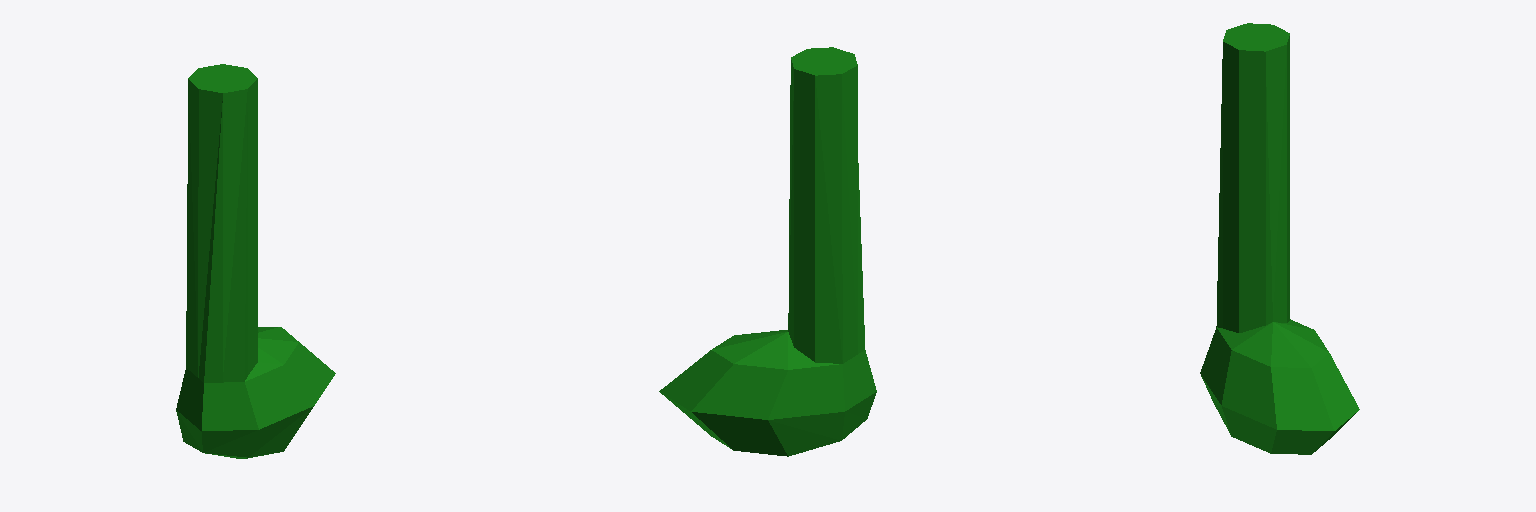
File: note.obj
3 views of the same model, side by side, from view 1: azimuth 30°, elevation 25°; view 2: azimuth 150°, elevation 25°; view 3: azimuth 270°, elevation 25° (orthographic).
Parts seen in each view (by area): view 1: Mesh41_Componente_4_3_Group26_Group24_Model; view 2: Mesh41_Componente_4_3_Group26_Group24_Model; view 3: Mesh41_Componente_4_3_Group26_Group24_Model.
Part boxes in pixels (x1,y1,x2,y2): Mesh41_Componente_4_3_Group26_Group24_Model: (176, 64, 335, 458); Mesh41_Componente_4_3_Group26_Group24_Model: (659, 47, 876, 456); Mesh41_Componente_4_3_Group26_Group24_Model: (1200, 23, 1359, 454).
Size of the model in its own units: 0.2582 by 0.5942 by 0.2188.